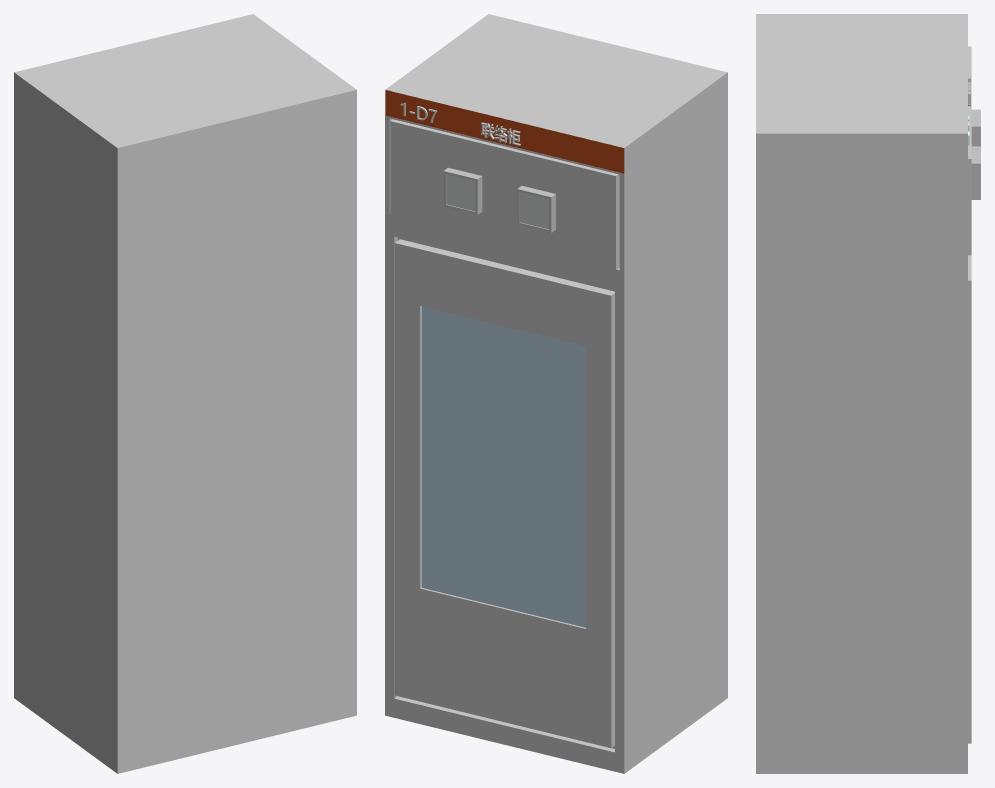
The model's file is connectBox_mini.gltf.
3 renders of one model, left to right at view 1: azimuth 30°, elevation 25°; view 2: azimuth 150°, elevation 25°; view 3: azimuth 270°, elevation 25°, orthographic. The views are drawn at different scales.
Visible parts, largest first — view 1: 联络柜; view 2: 联络柜; view 3: 联络柜.
Boxes of the visible parts, x1,y1,x2,y2 form: 联络柜: (14,14,356,773); 联络柜: (385,14,727,773); 联络柜: (756,14,980,773).
Size of the model in its own units: 80.02 by 200 by 63.61.
